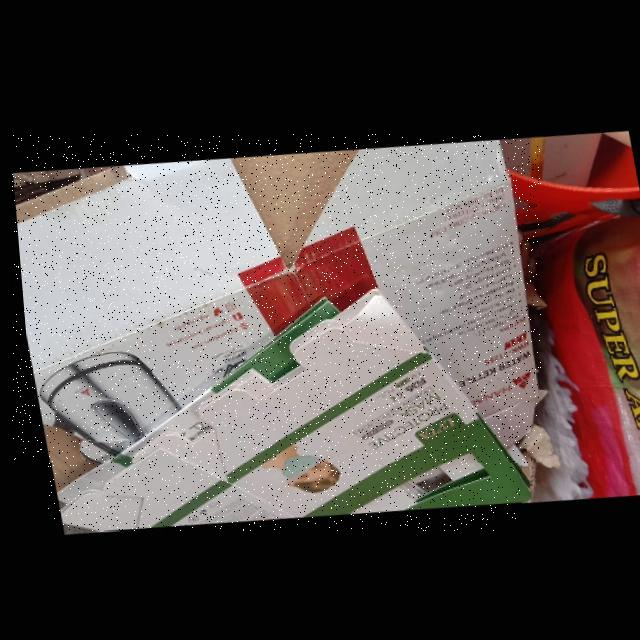paper: (13, 134, 541, 463), (48, 285, 522, 531)
